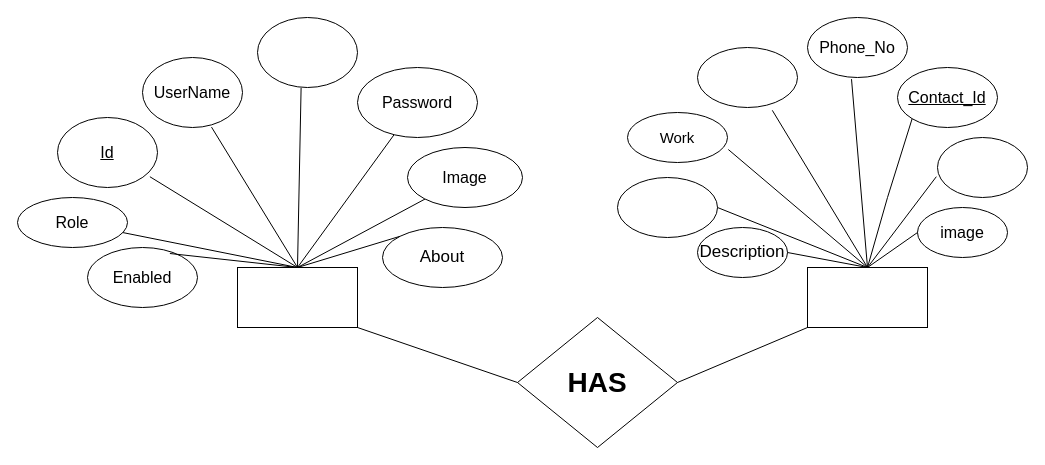
Some shapes in this 1045 by 465 pixel diagram are drawn without their labels. Each missing label, with the centre of its shape:
CONTACT: (x=867, y=297)
Contact_Name: (x=982, y=167)
email: (x=667, y=207)
Nick_name: (x=747, y=77)
USER: (x=297, y=297)
UserEmail: (x=307, y=52)
